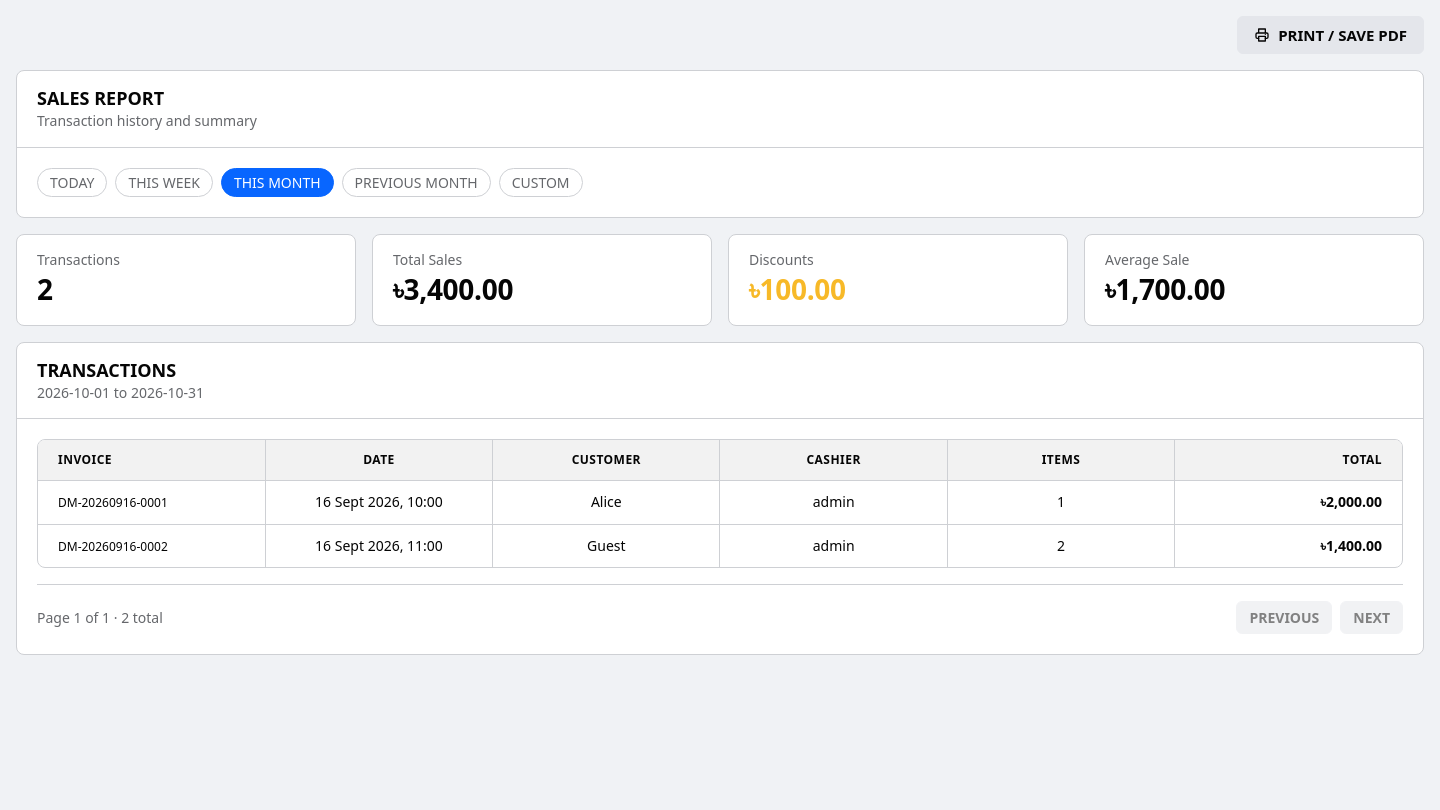
Test: SalesReportPage › opens the detail modal when a row is clicked
Click the text "DM-20260916-0001" at coordinates (113, 503), box x1=58 y1=494 x2=168 y2=511
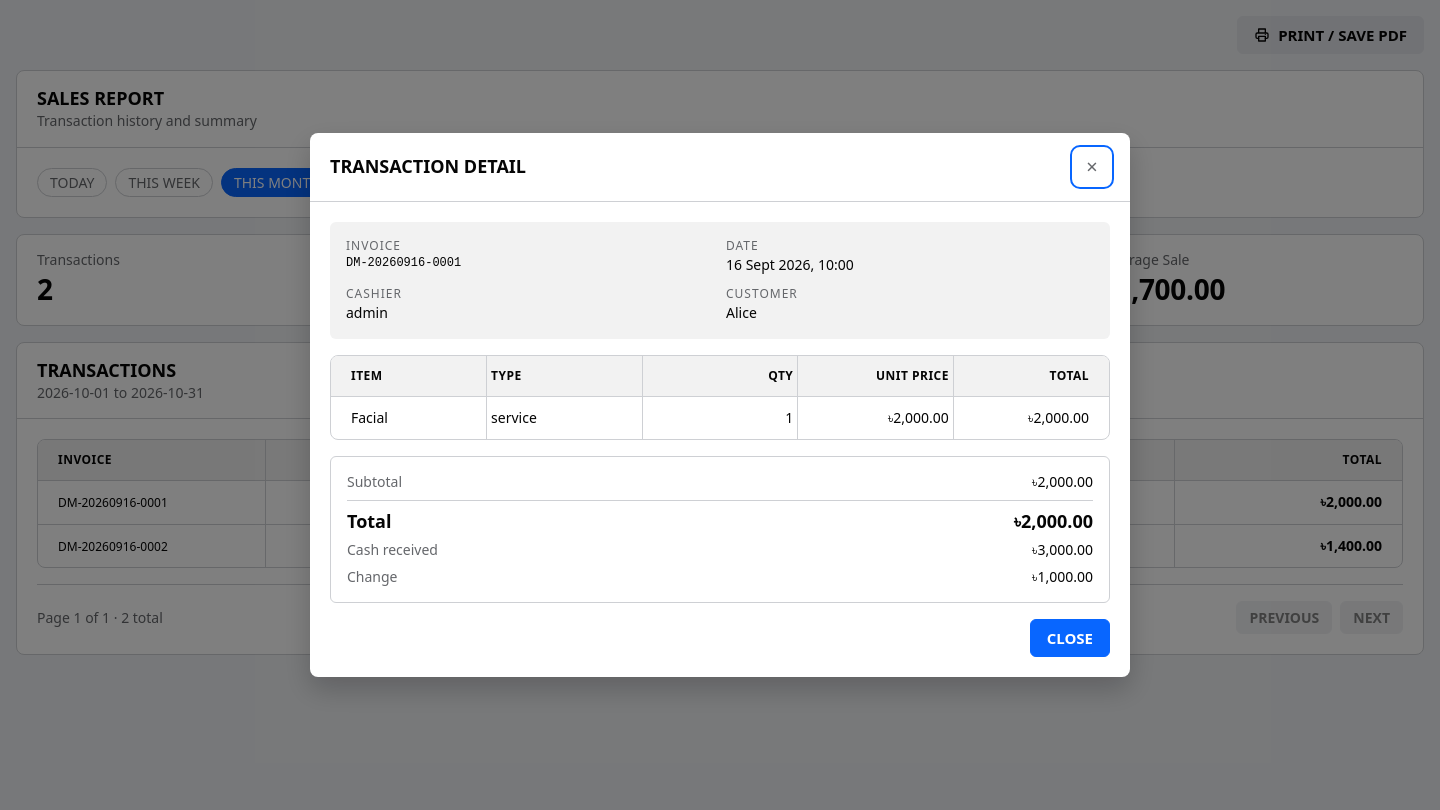
Expected: the dialog is shown, x1=310 y1=133 x2=1130 y2=678
Expected: the text "Facial" is shown, x1=331 y1=396 x2=487 y2=440
